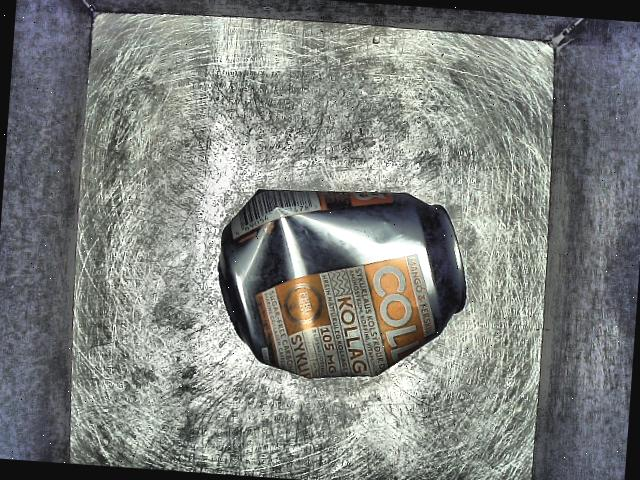Bottles: (211, 172, 478, 424)
